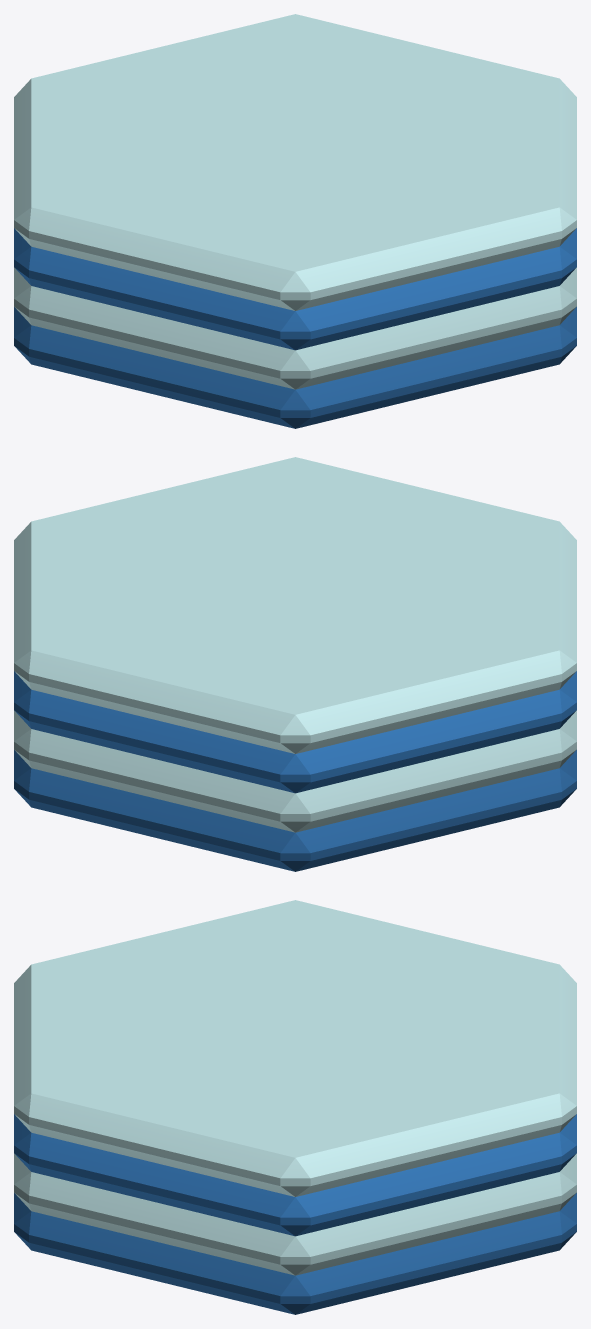
The model's file is petri_stack.glb.
3 views of the same model, one above another, from view 1: azimuth 30°, elevation 25°; view 2: azimuth 150°, elevation 25°; view 3: azimuth 270°, elevation 25° (orthographic).
Parts seen in each view (by area): view 1: petri_stack; view 2: petri_stack; view 3: petri_stack.
Part boxes in pixels (x1=…): petri_stack: x1=14, y1=14, x2=576, y2=428; petri_stack: x1=14, y1=457, x2=576, y2=871; petri_stack: x1=14, y1=900, x2=576, y2=1314.
Size of the model in its own units: 0.292 by 0.08 by 0.2598.
1 material, 1 textured.
